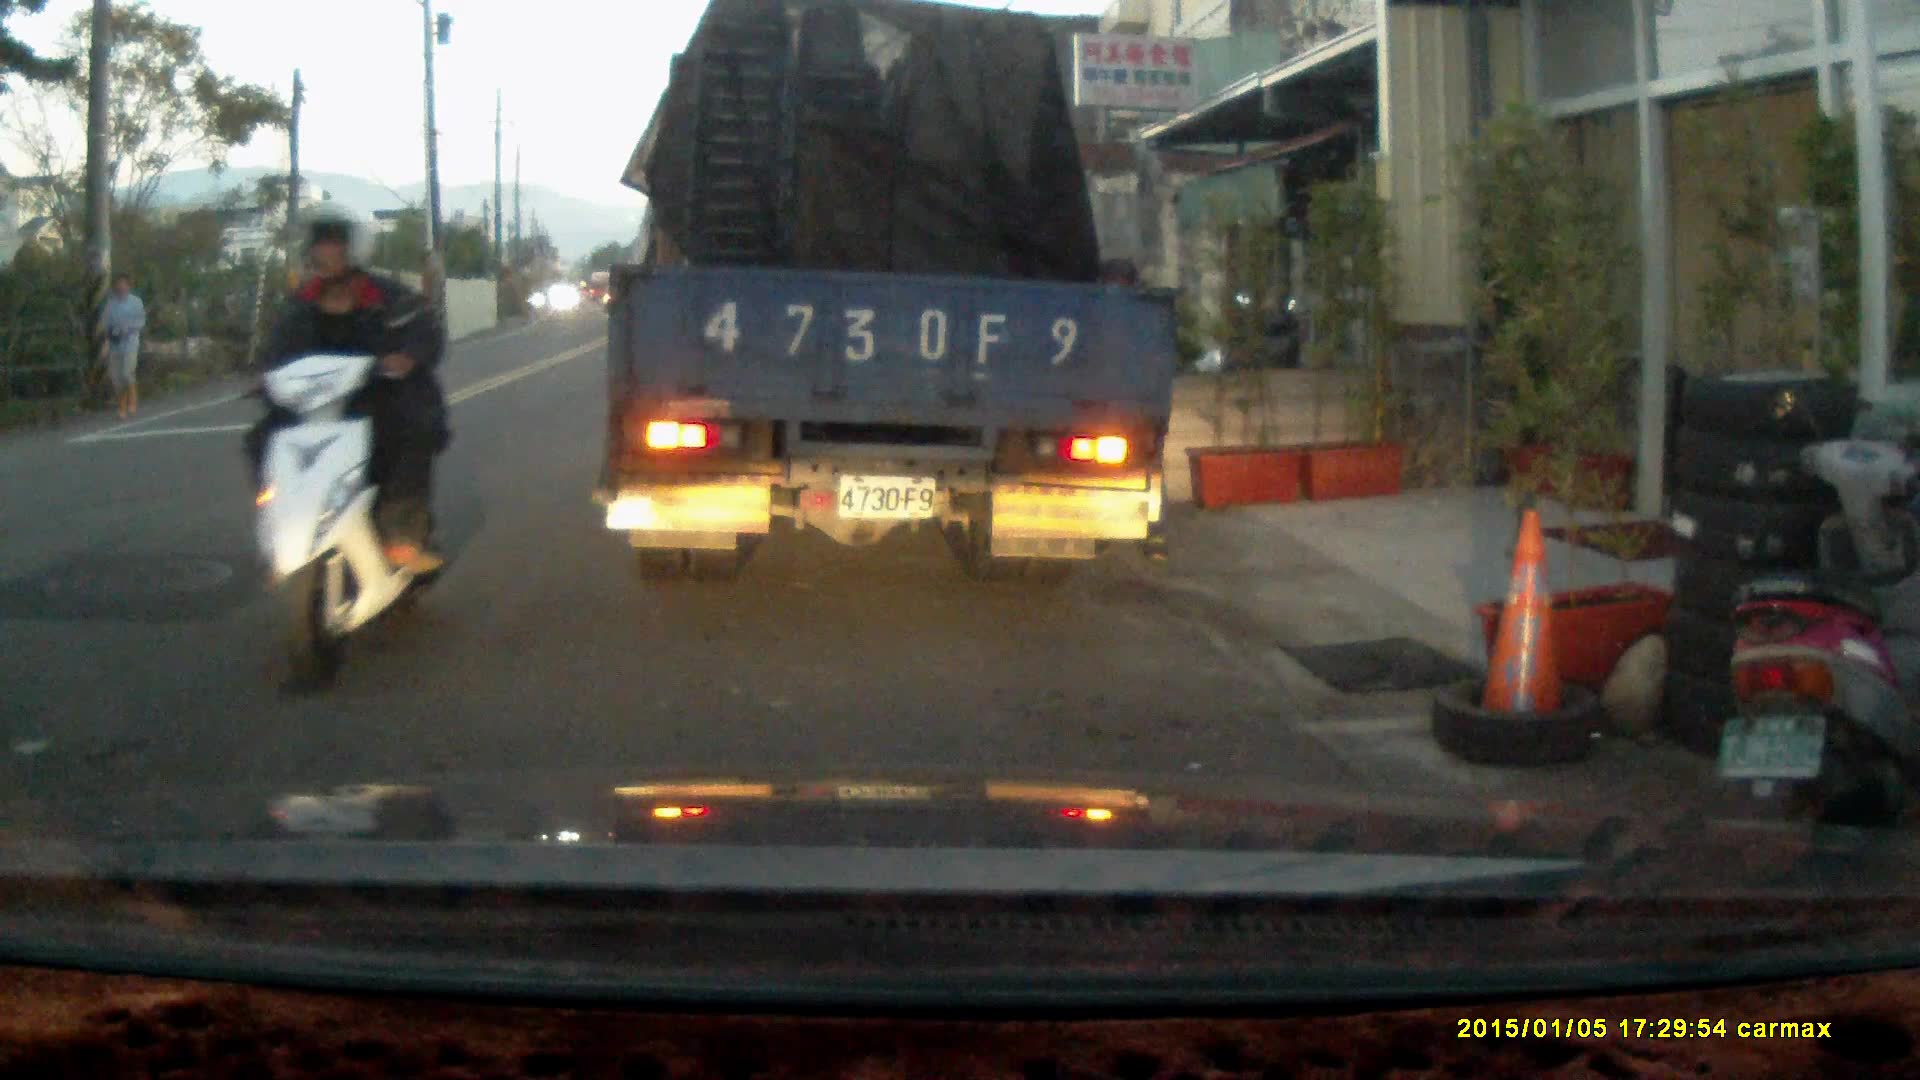pedestrian: (97, 270, 150, 420)
rider: (209, 199, 453, 705)
vehicle: (601, 23, 1187, 572)
